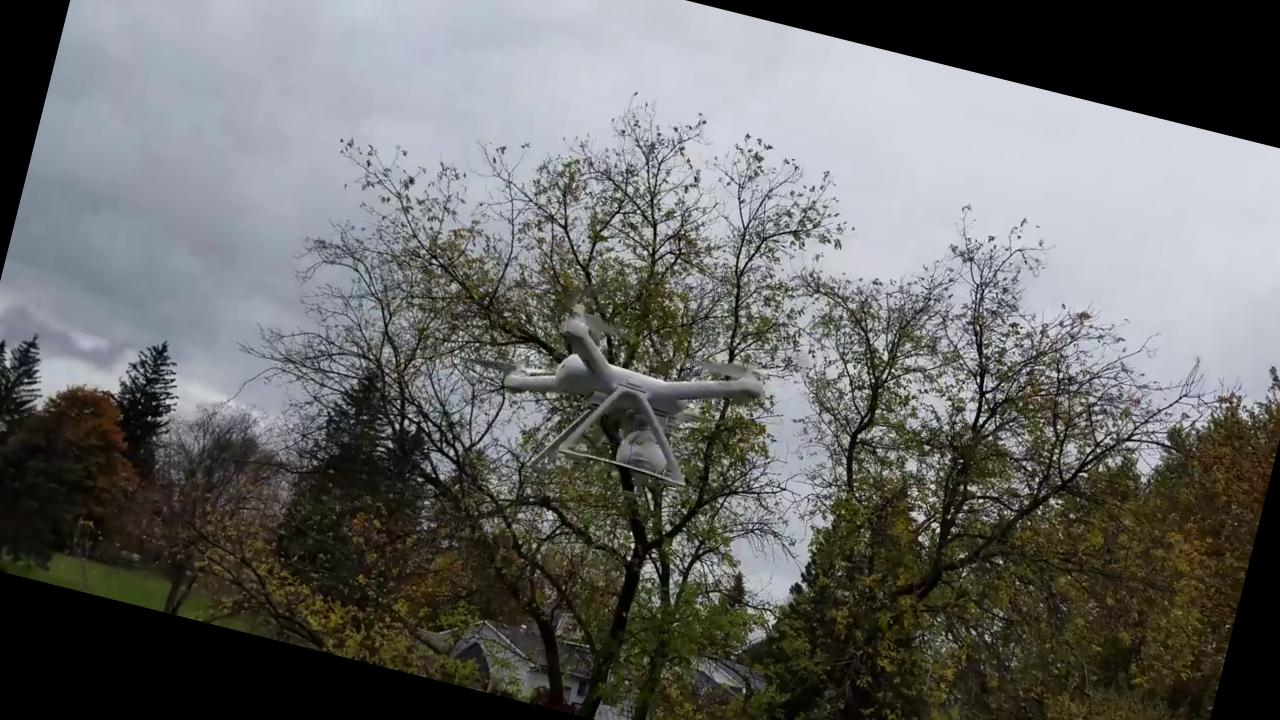drone: (460, 276, 800, 481)
